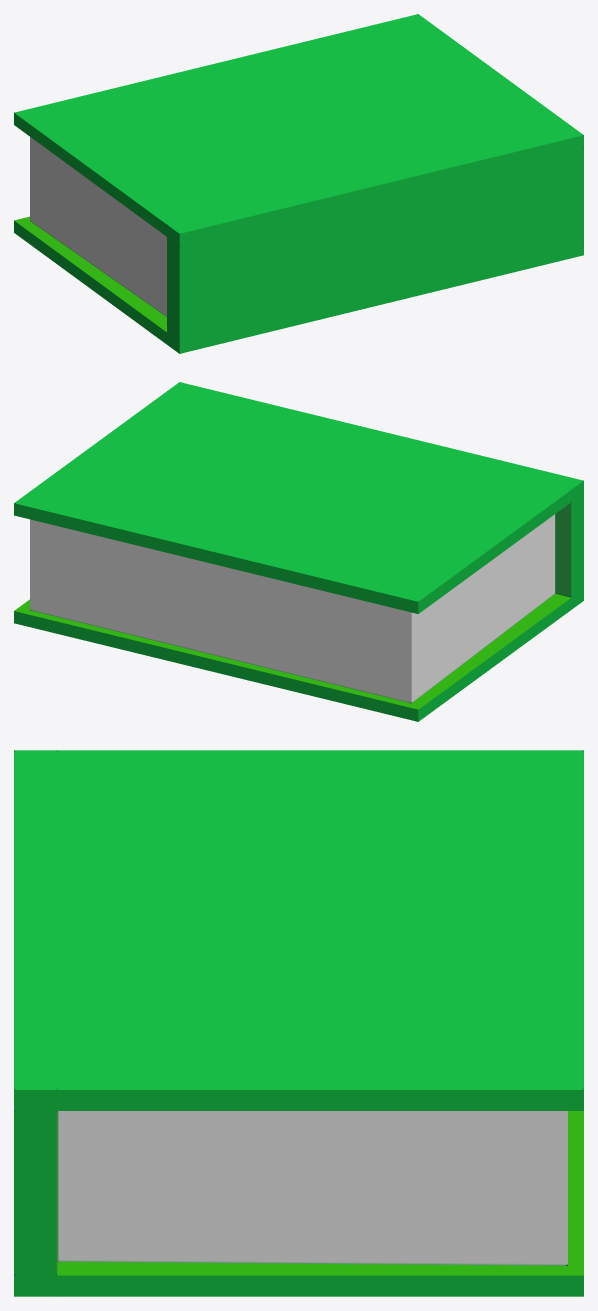
The model's file is Book7.fbx.
The picture shows the model from 3 angles, top to bottom: view 1: azimuth 30°, elevation 25°; view 2: azimuth 150°, elevation 25°; view 3: azimuth 270°, elevation 25°; orthographic projection. The views are drawn at different scales.
Parts seen in each view (by area): view 1: Book; view 2: Book; view 3: Book.
Boxes of the visible parts, x1,y1,x2,y2 form: Book: (14, 14, 583, 353); Book: (14, 382, 583, 721); Book: (14, 750, 583, 1296).
Bounding box in the file's own units: 282 × 80 × 200.
